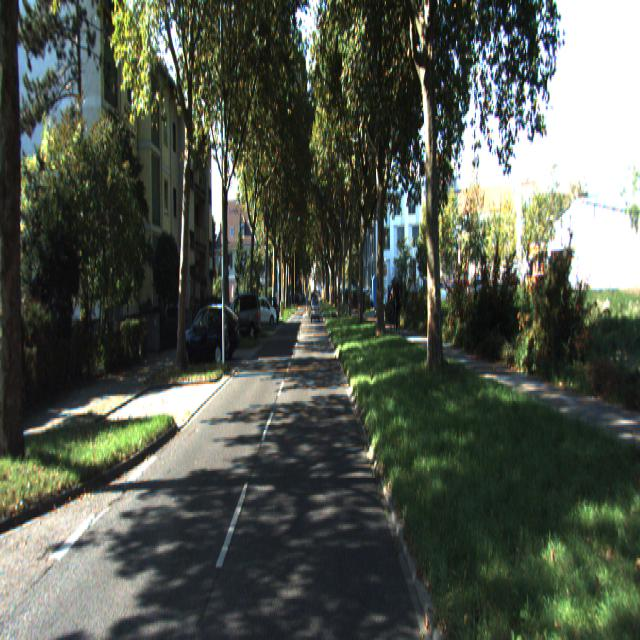Car: (179, 306, 232, 373), (223, 289, 262, 346), (254, 299, 278, 329)
